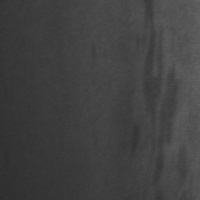inclusion: (134, 3, 183, 194)
